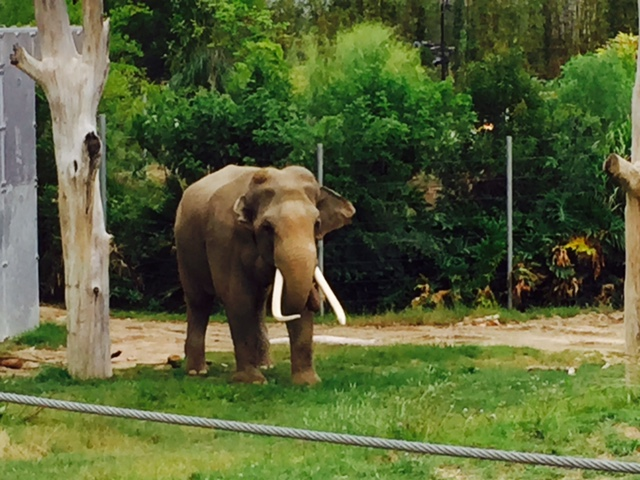elephant: (165, 157, 360, 406)
